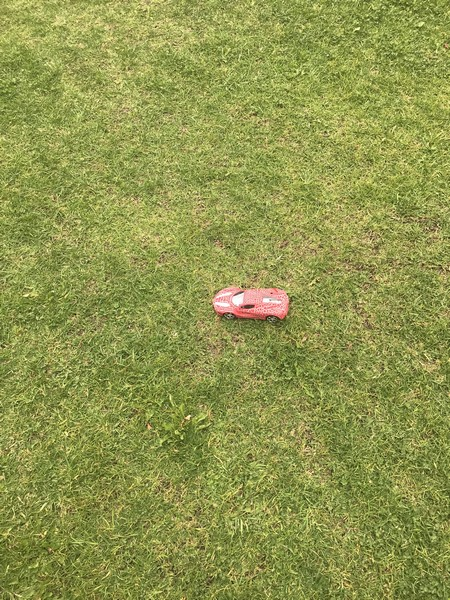RC: (211, 284, 293, 324)
